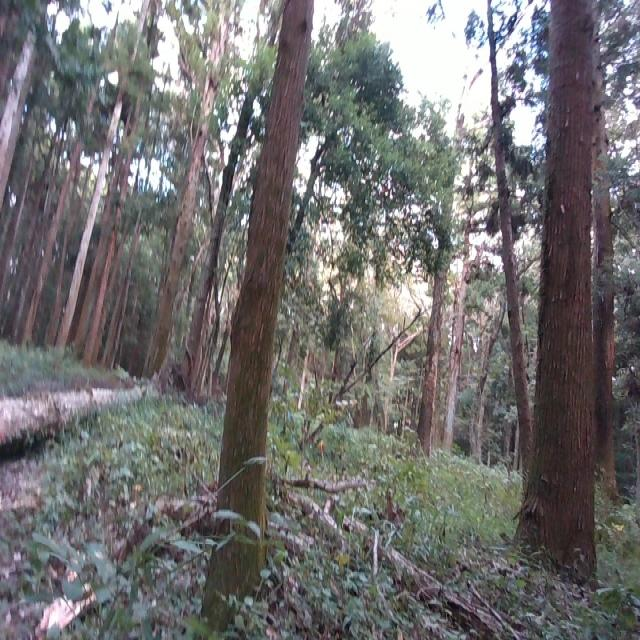bush: (264, 358, 369, 528)
tree: (204, 0, 321, 626), (512, 0, 602, 595), (53, 0, 149, 355), (142, 0, 228, 383), (179, 70, 264, 395), (488, 5, 536, 489), (348, 510, 514, 640), (415, 102, 463, 456), (0, 368, 146, 460), (445, 142, 476, 462), (1, 0, 43, 199)
